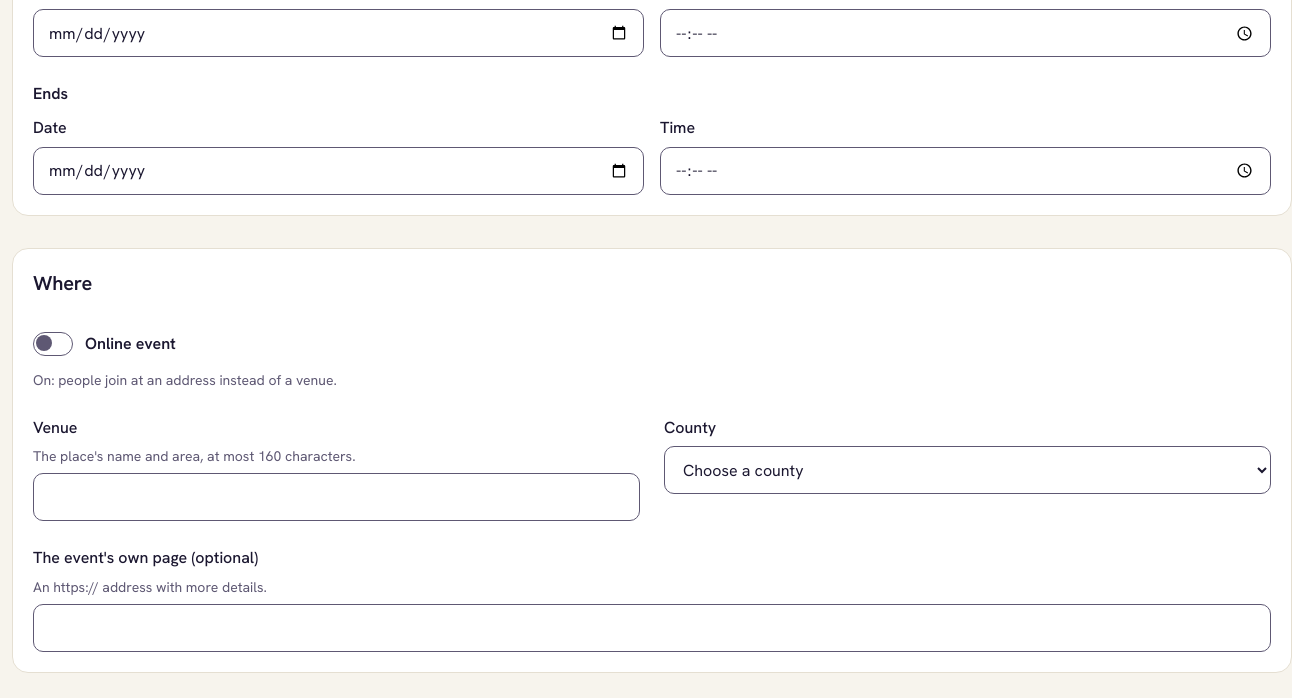
Test case: the event form › swaps the venue and county for the join address with the Online switch
(page scrolled)
Expected: the field labelled "Venue" is shown, [33,473,640,521]
Expected: the dropdown labelled "County" is shown, [664,446,1271,494]
Click the switch labelled "Online event" at (104, 344), box [33,322,176,366]
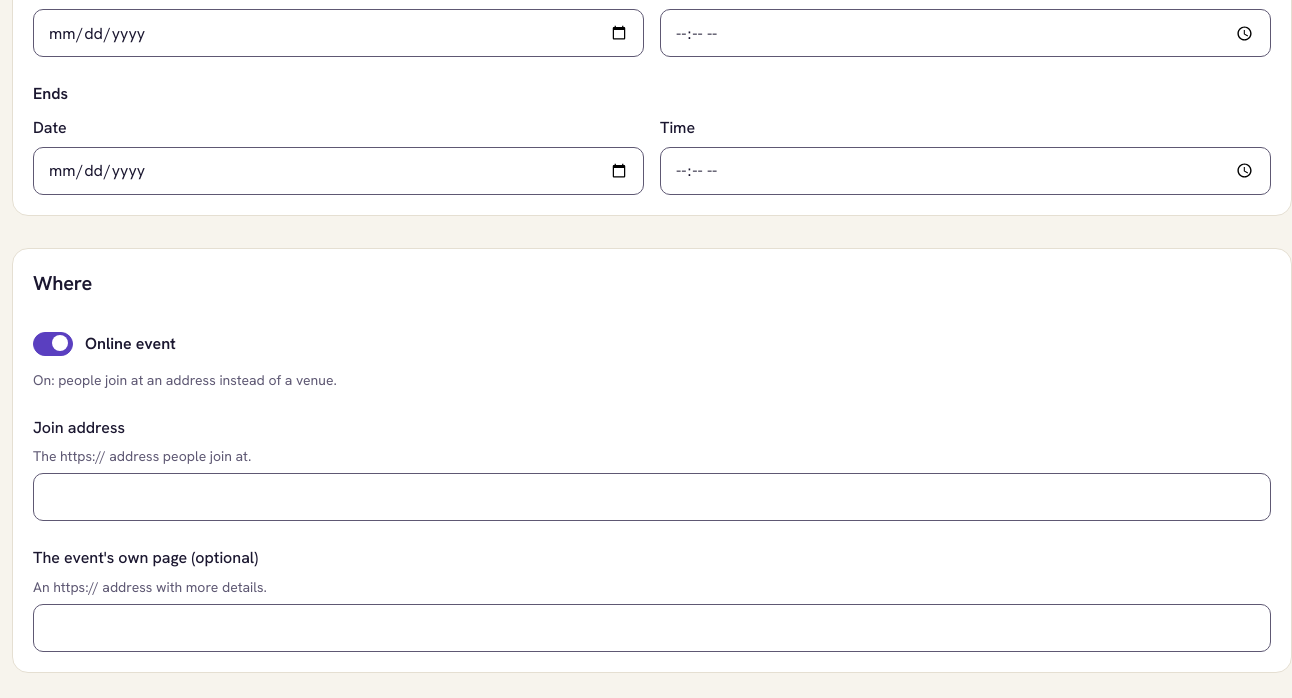
Now the field labelled "Join address" is shown, box [33,473,1271,521]
